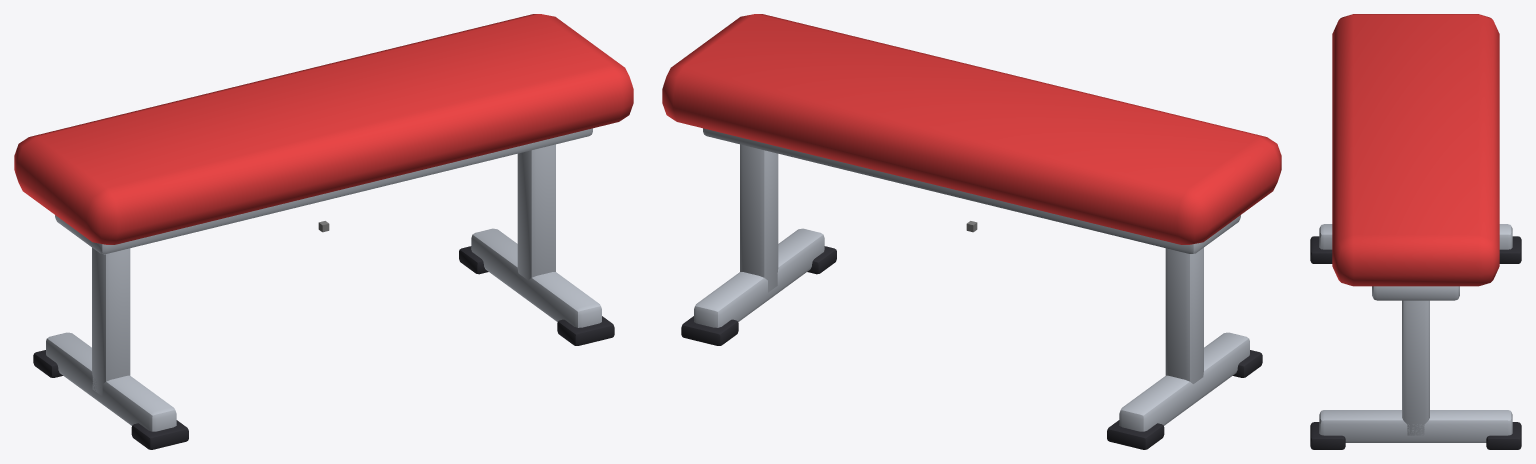
Rendered from Bench.fbx.
The picture shows the model from 3 angles, left to right: view 1: azimuth 30°, elevation 25°; view 2: azimuth 150°, elevation 25°; view 3: azimuth 270°, elevation 25°; orthographic projection. The views are drawn at different scales.
Visible parts, largest first — view 1: Bench_Body, Bench_Steel, Bench_Rubber; view 2: Bench_Body, Bench_Steel, Bench_Rubber; view 3: Bench_Body, Bench_Steel, Bench_Rubber.
Part boxes in pixels (x1=…): Bench_Body: x1=14, y1=14, x2=633, y2=244; Bench_Steel: x1=46, y1=128, x2=601, y2=431; Bench_Rubber: x1=33, y1=246, x2=614, y2=449; Bench_Body: x1=662, y1=14, x2=1281, y2=244; Bench_Steel: x1=694, y1=128, x2=1249, y2=431; Bench_Rubber: x1=681, y1=246, x2=1262, y2=449; Bench_Body: x1=1332, y1=14, x2=1499, y2=286; Bench_Steel: x1=1319, y1=224, x2=1512, y2=442; Bench_Rubber: x1=1310, y1=236, x2=1521, y2=449.
Size of the model in its own units: 320 by 141 by 120.
